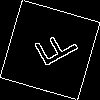F: (25, 25, 80, 74)
